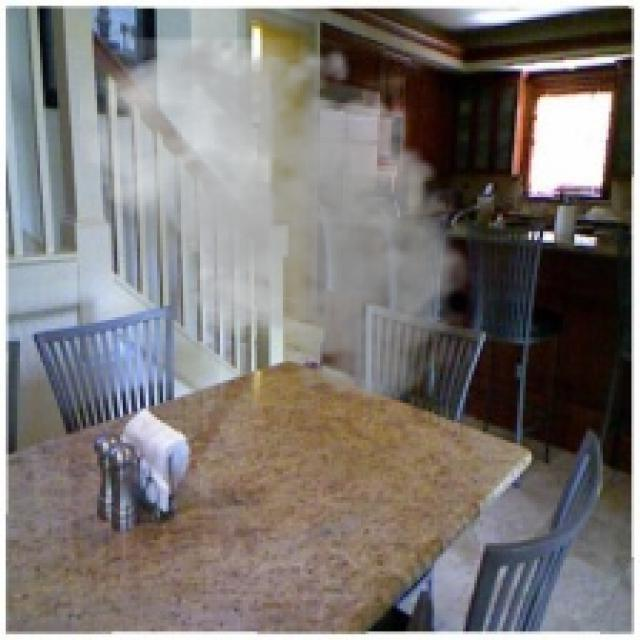Smoke: (80, 22, 486, 408)
